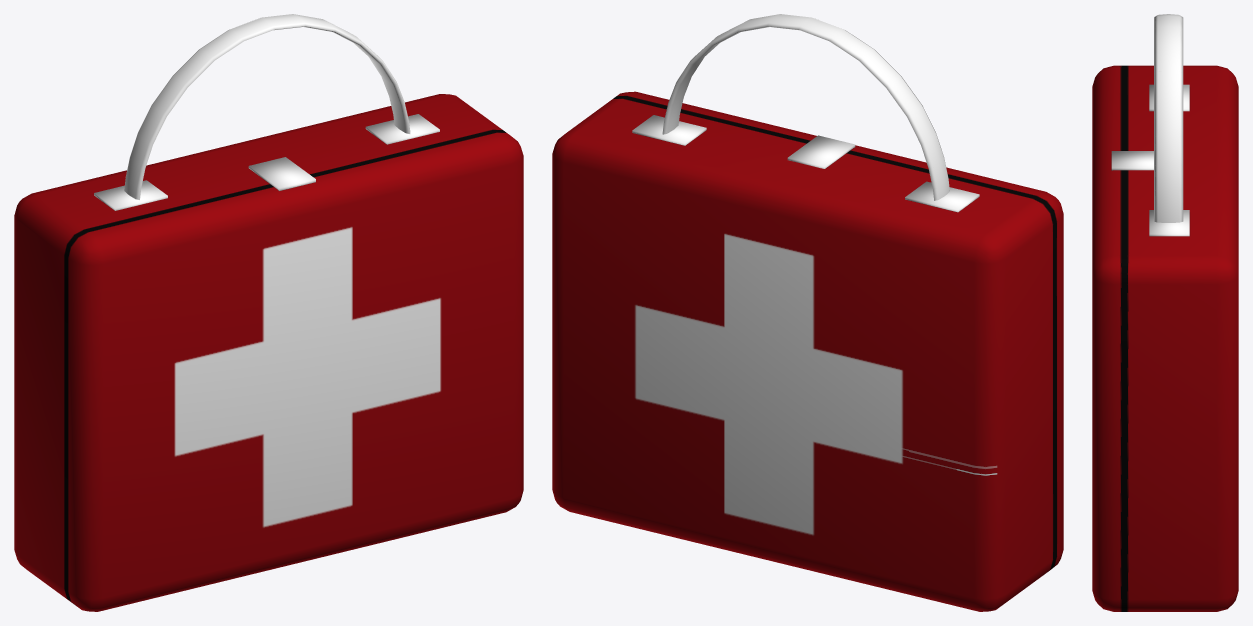
3 renders of one model, left to right at view 1: azimuth 30°, elevation 25°; view 2: azimuth 150°, elevation 25°; view 3: azimuth 270°, elevation 25°, orthographic. The views are drawn at different scales.
Visible parts, largest first — view 1: Medkit; view 2: Medkit; view 3: Medkit.
Boxes of the visible parts, x1,y1,x2,y2 form: Medkit: [14, 14, 523, 611]; Medkit: [552, 14, 1063, 611]; Medkit: [1092, 14, 1238, 611].
Size of the model in its own units: 20 by 22.3 by 6.
Materials: 1 (1 with a texture image).
